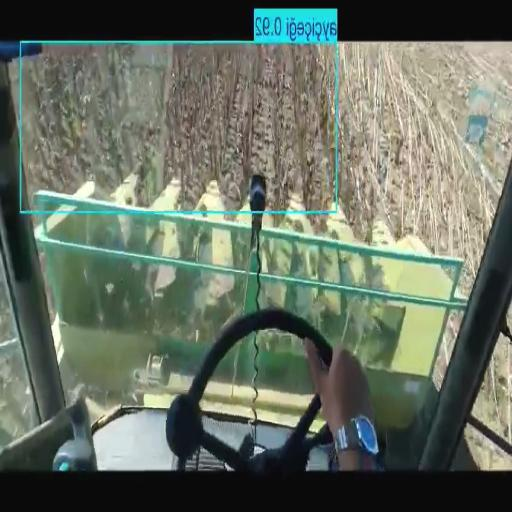ayc: (23, 46, 333, 210)
